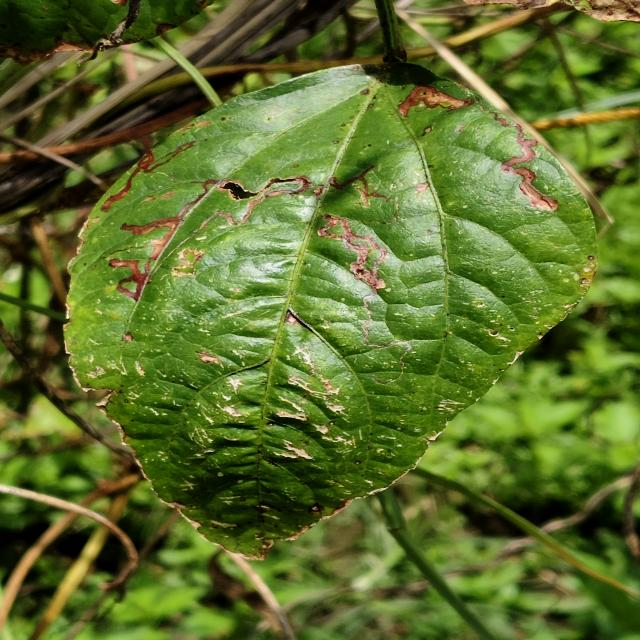leaf-healthy: (106, 63, 596, 490)
